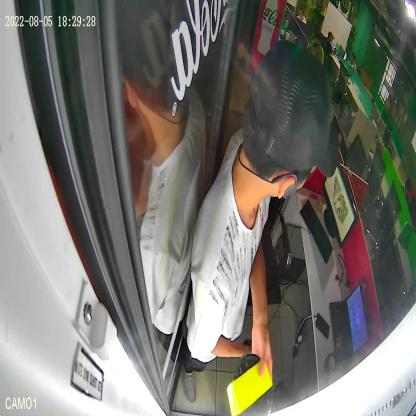yellow: (226, 353, 273, 416)
